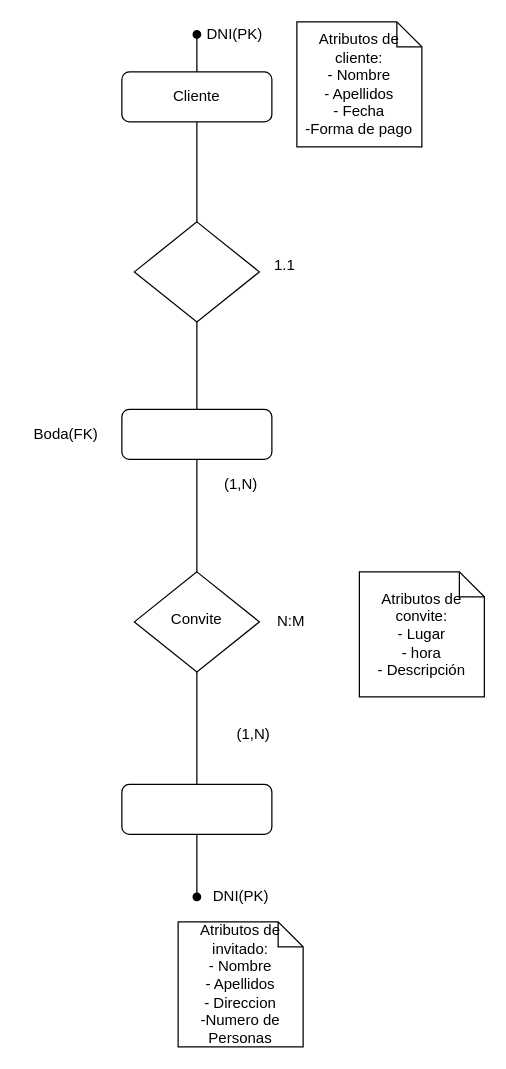
The diagram is 506 pixels wide and 1069 high, and some of its shapes have lost their labels. The centre of each missing label's shape, as x and y in pixels:
"Boda" goes at point 196,433.
"Invitado" goes at point 196,808.
"Organiza" goes at point 196,271.
